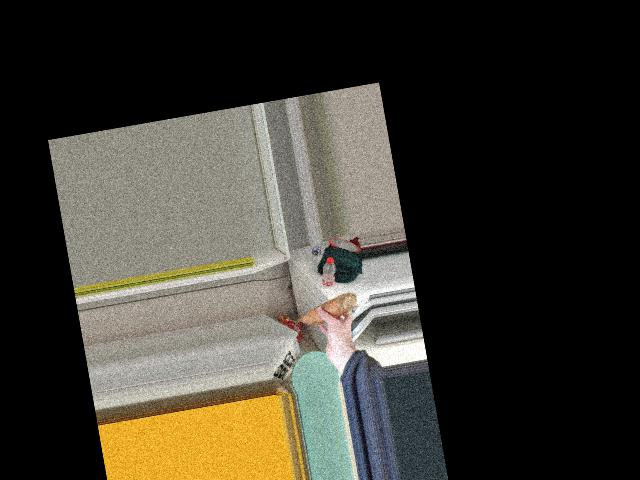sweet_potato: (293, 295, 359, 324)
